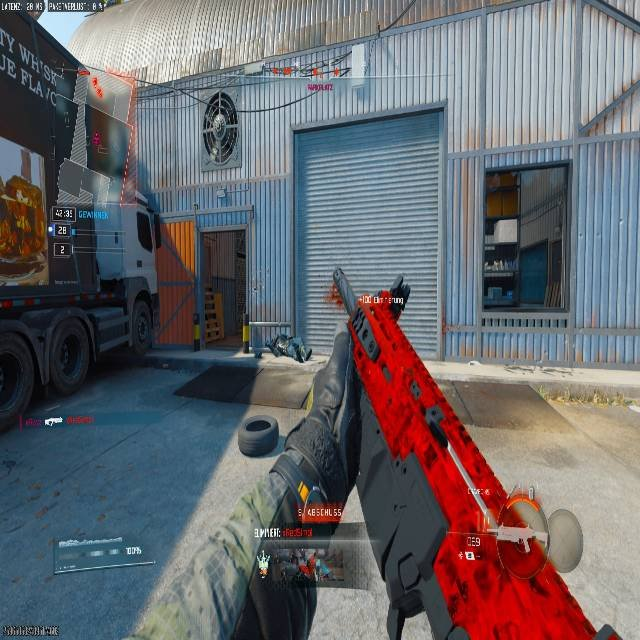head: (211, 91, 225, 106), (300, 345, 312, 362)
player: (203, 91, 238, 164)
